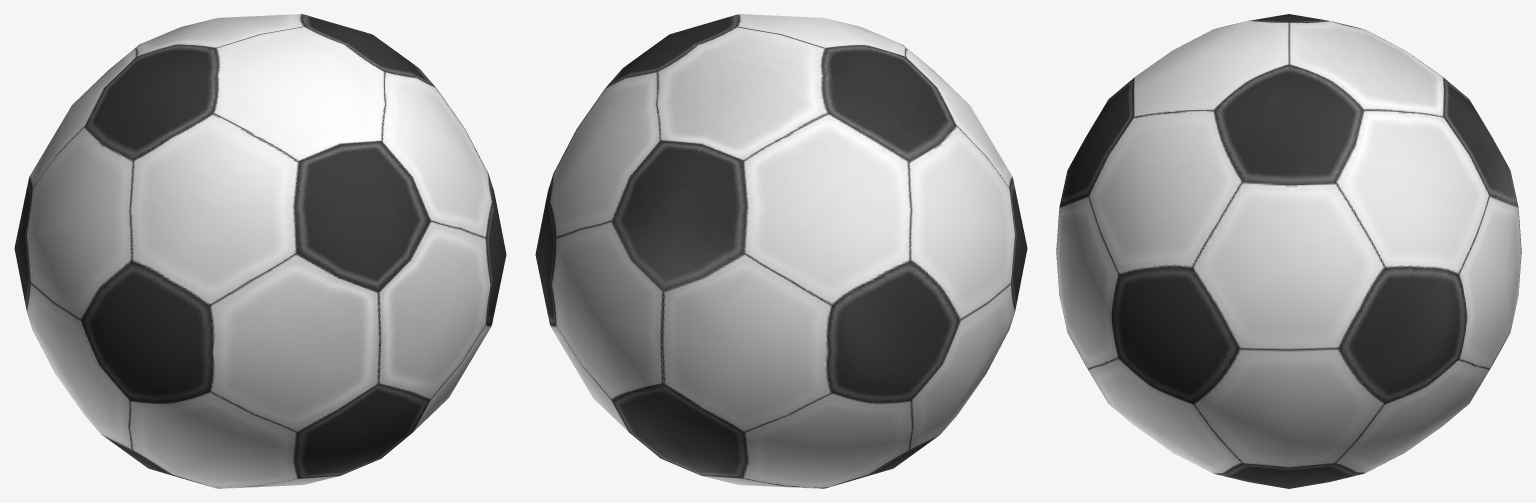
Rendered from football.fbx.
The picture shows the model from 3 angles, left to right: view 1: azimuth 30°, elevation 25°; view 2: azimuth 150°, elevation 25°; view 3: azimuth 270°, elevation 25°; orthographic projection. The views are drawn at different scales.
Visible parts, largest first — view 1: football; view 2: football; view 3: football.
Part boxes in pixels (box(x1,y1,x2,y2)): football: box(14, 14, 506, 488); football: box(535, 14, 1027, 488); football: box(1056, 14, 1521, 488).
Size of the model in its own units: 0.3909 by 0.3909 by 0.3909.
Materials: 1 (1 with a texture image).
